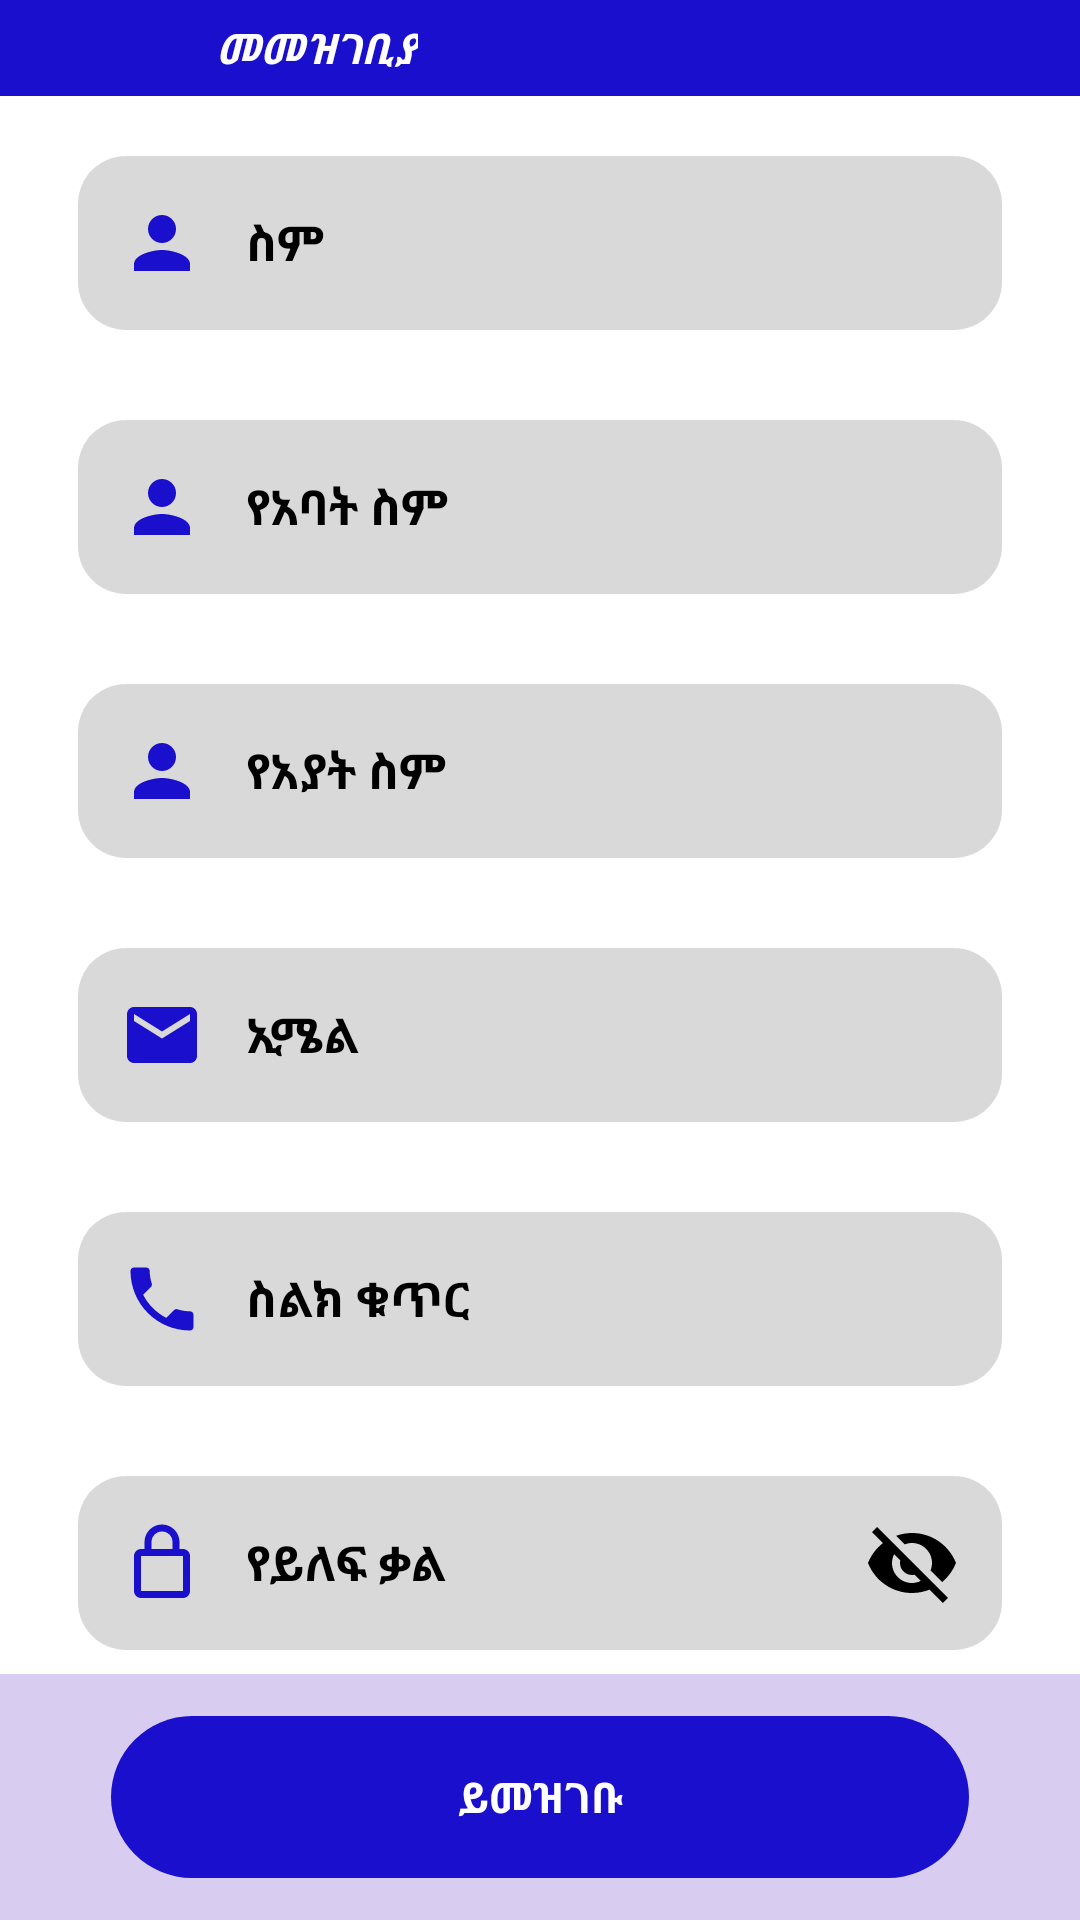

Icon bounding boxes for this 1080 x 1920 phone screenshot, format (x1, y1, x2, y2):
lock: (134, 1524, 190, 1598)
visibility off: (868, 1527, 956, 1603)
